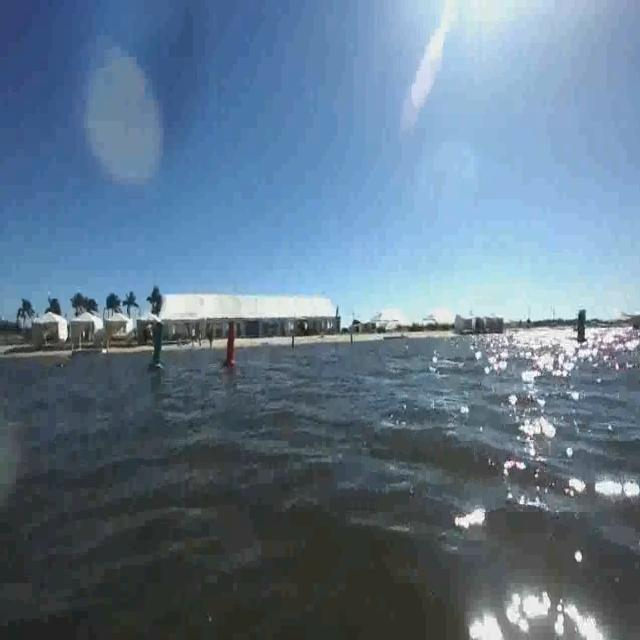green-column-buoy: (147, 319, 166, 372), (576, 308, 586, 344)
red-column-buoy: (222, 321, 239, 370)
